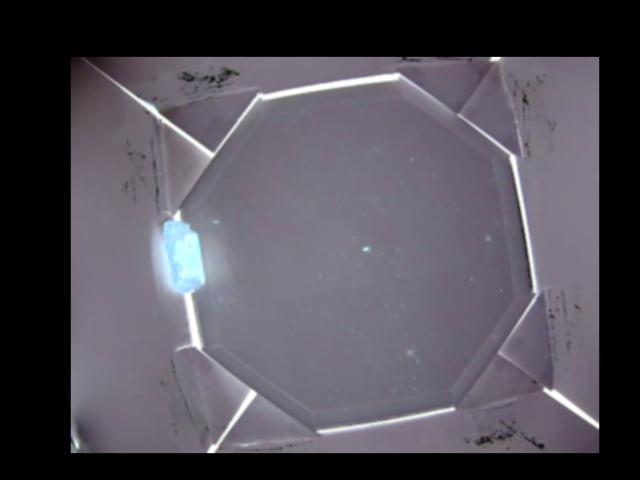Brisk: (162, 220, 207, 295)
